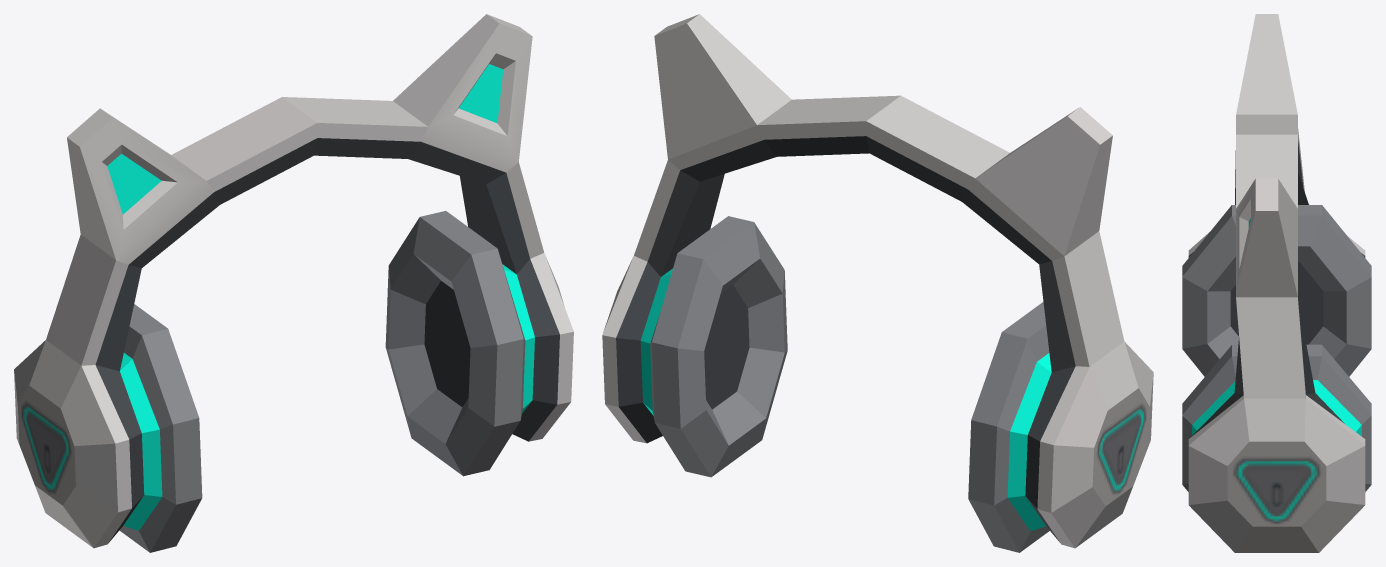
Rendered from SM_Chr_Attach_Headset_01.fbx.
3 renders of one model, left to right at view 1: azimuth 30°, elevation 25°; view 2: azimuth 150°, elevation 25°; view 3: azimuth 270°, elevation 25°, orthographic. The views are drawn at different scales.
Visible parts, largest first — view 1: SM_Chr_Attach_Headset_01; view 2: SM_Chr_Attach_Headset_01; view 3: SM_Chr_Attach_Headset_01.
Boxes of the visible parts, x1,y1,x2,y2 form: SM_Chr_Attach_Headset_01: (14, 14, 573, 552); SM_Chr_Attach_Headset_01: (602, 14, 1153, 552); SM_Chr_Attach_Headset_01: (1182, 14, 1371, 552).
Bounding box in the file's own units: 32.11 × 26.55 × 12.14.
